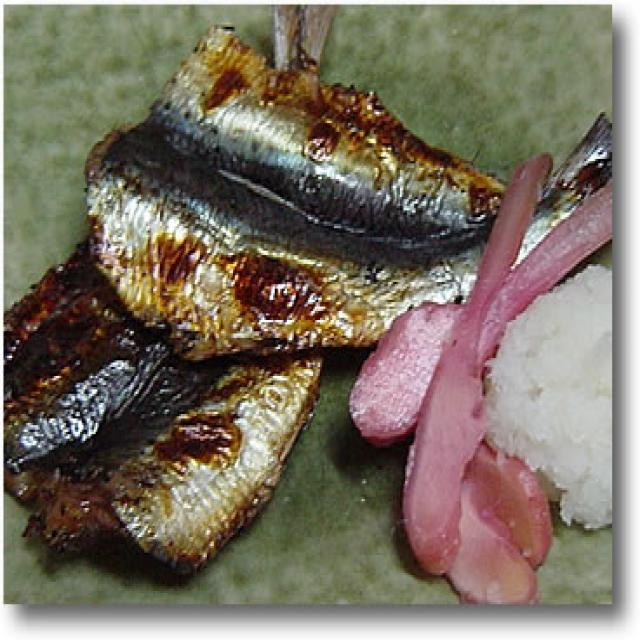熟制海鲜: (3, 16, 607, 590)
